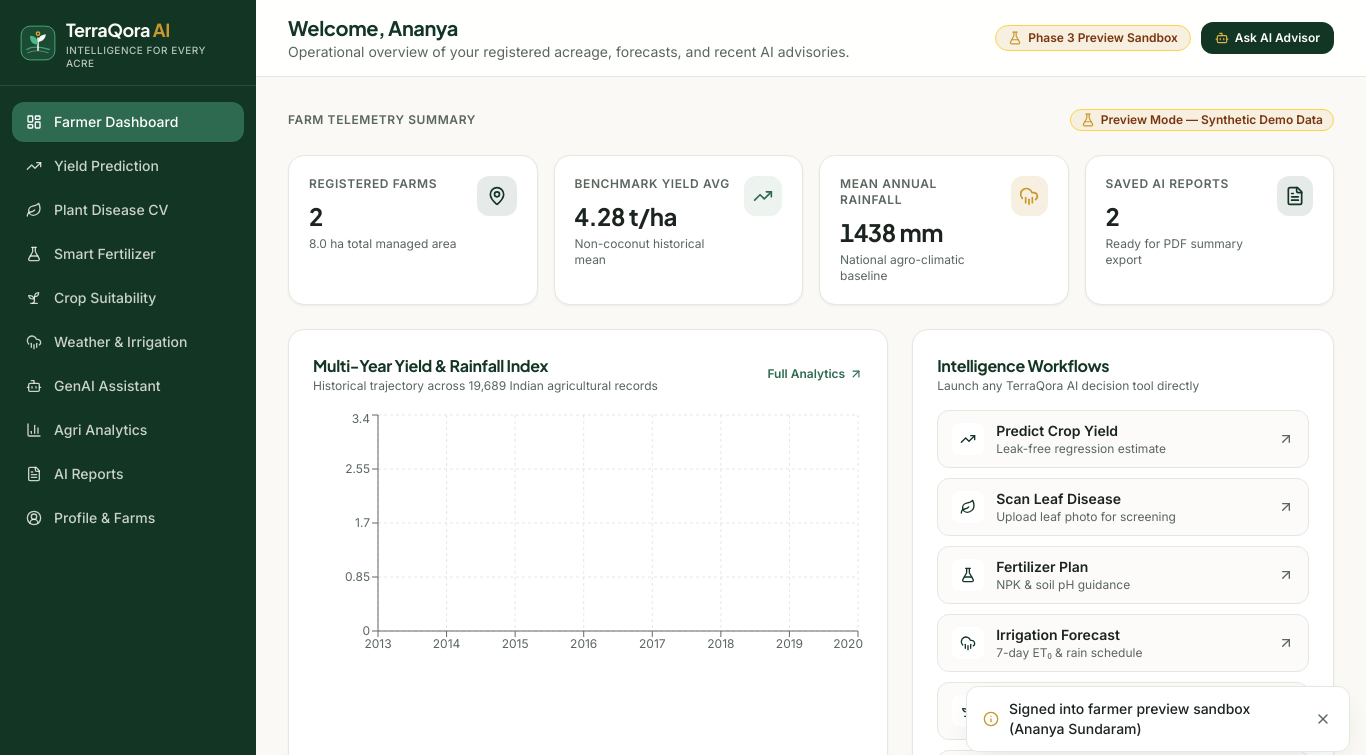
Test: TerraQora AI — Phase 3 Frontend Suite › updates Farmer Profile settings and performs Farm Plot Create, Update & Delete CRUD on /profile
The width and height of the screenshot is (1366, 755).
Earlier steps of the test are not shown.
Later steps or results of the test are not shown.
Expected: the text "Farm Telemetry Summary" is shown, [288,112,476,128]
Click the link "Profile & Farms" at (91, 518), box [26,509,155,526]
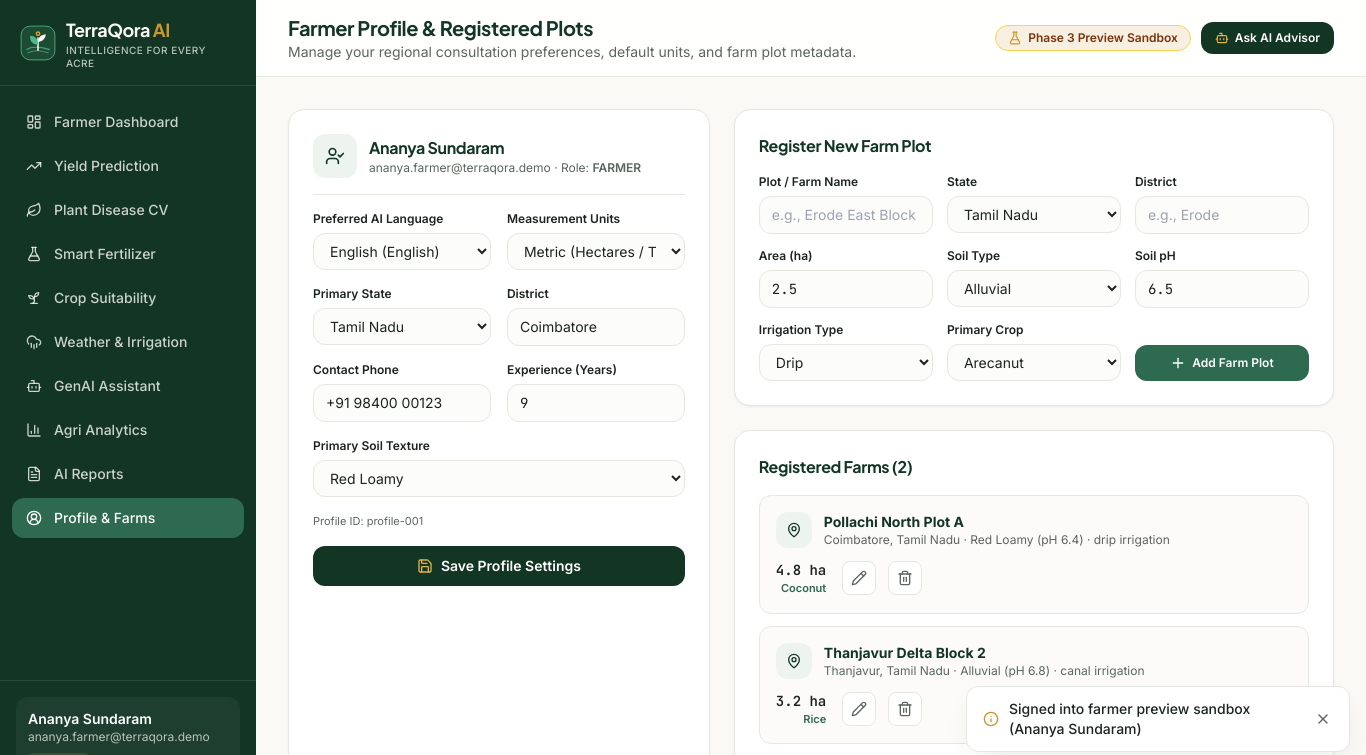
Replace the text in the field labelled "District" below "Primary State" with "Salem" at (596, 327), box [507,308,685,346]
Click the button "Save Profile Settings" at (499, 566), box [313,546,685,586]
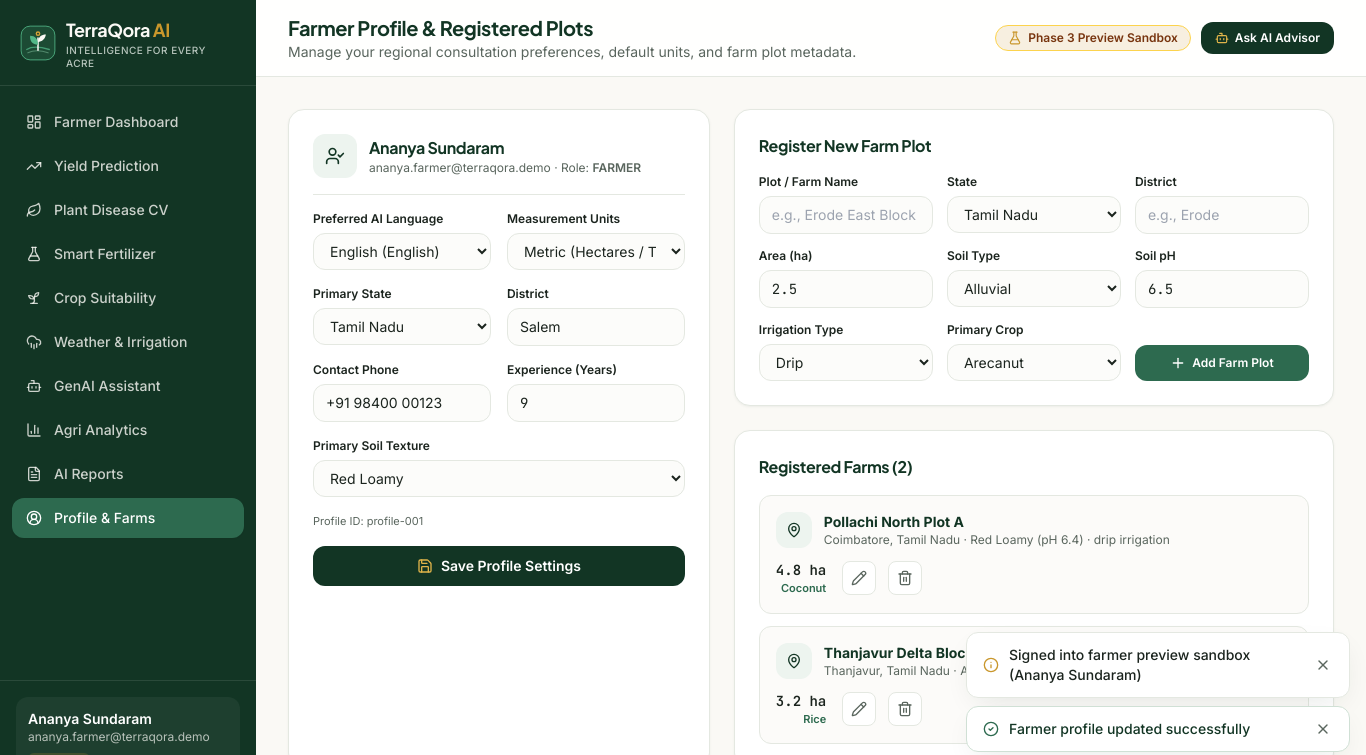
Expected: the text "Farmer profile updated successfully" is shown, [1009,720,1250,737]
Type "Salem West Terrace" into the field labelled "Plot / Farm Name" at (846, 215), box [759,196,933,234]
Click the button "Add Farm Plot" at (1222, 363), box [1135,345,1309,381]
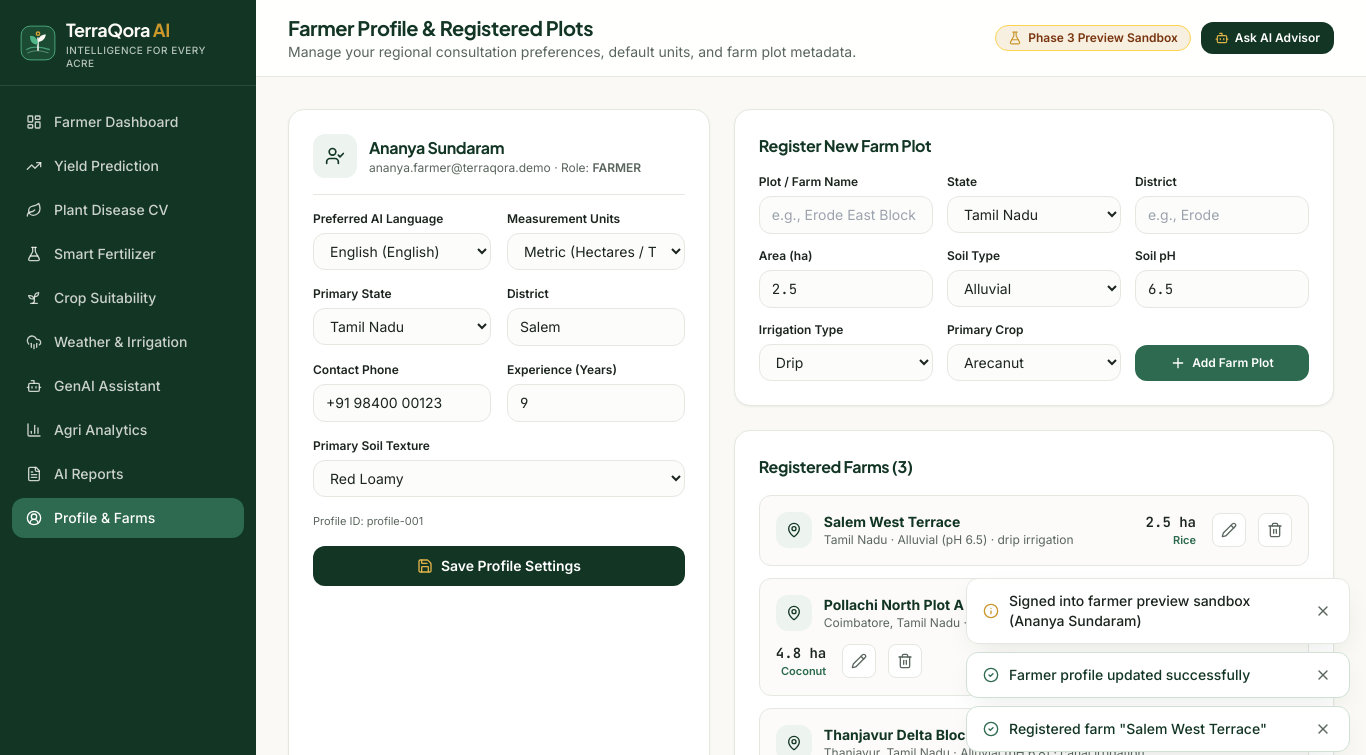
Click the button named "Edit Salem West Terrace" at (1229, 530), box [1212,513,1246,547]
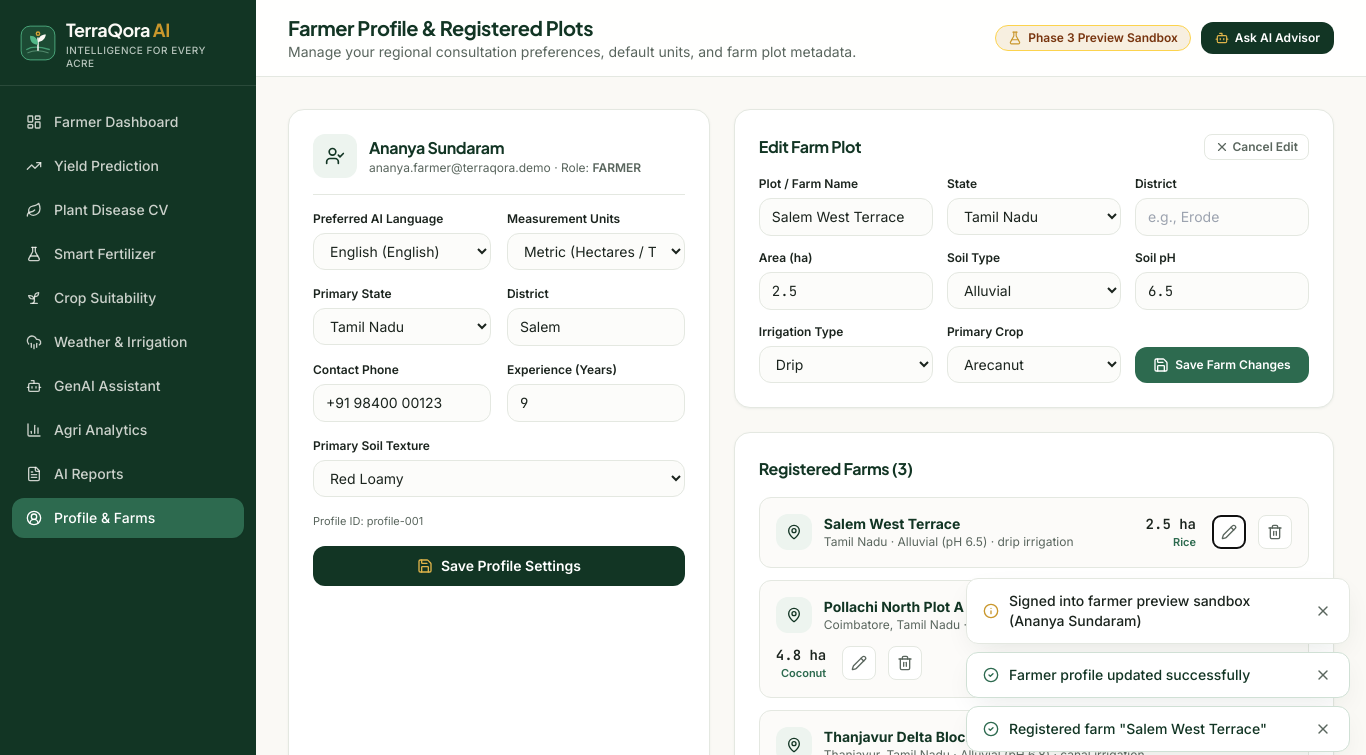
Replace the text in the field labelled "Plot / Farm Name" with "Salem North Terrace" at (846, 217), box [759,198,933,236]
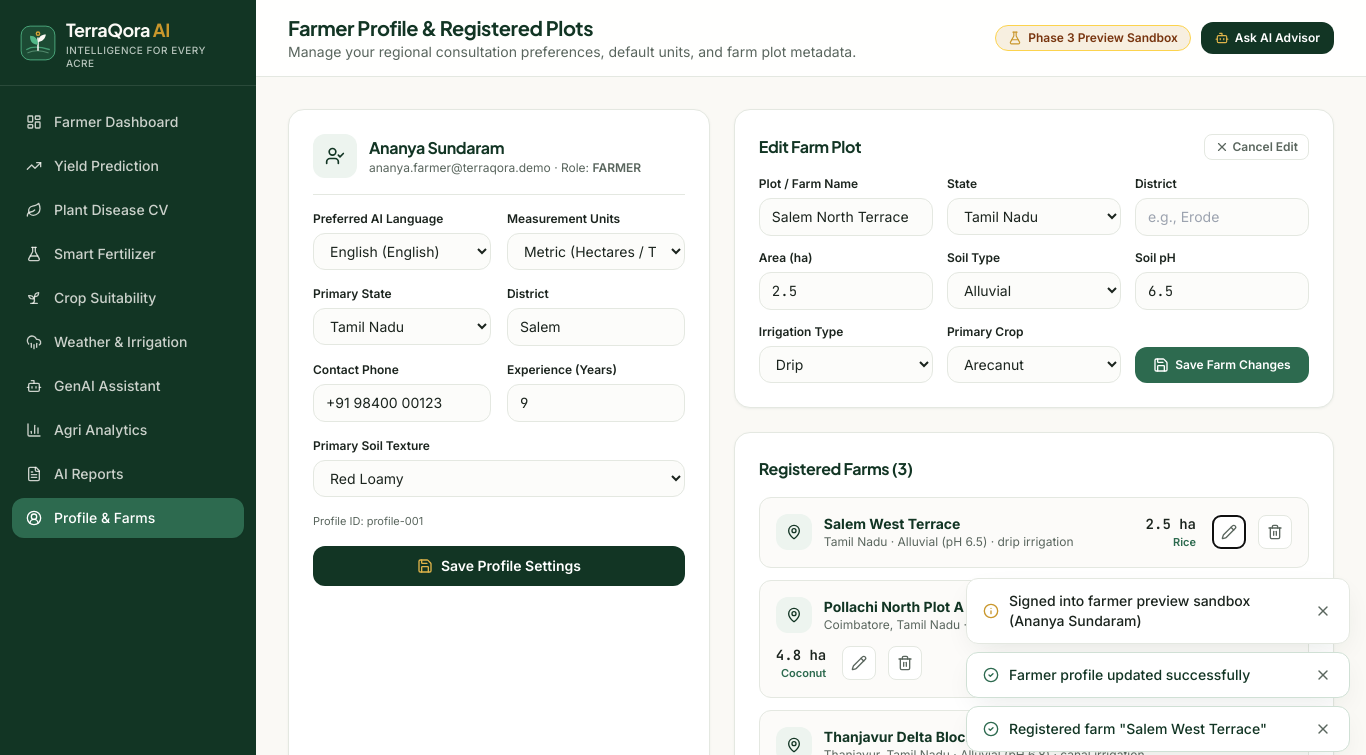
Click the button "Save Farm Changes" at (1222, 365), box [1135,347,1309,383]
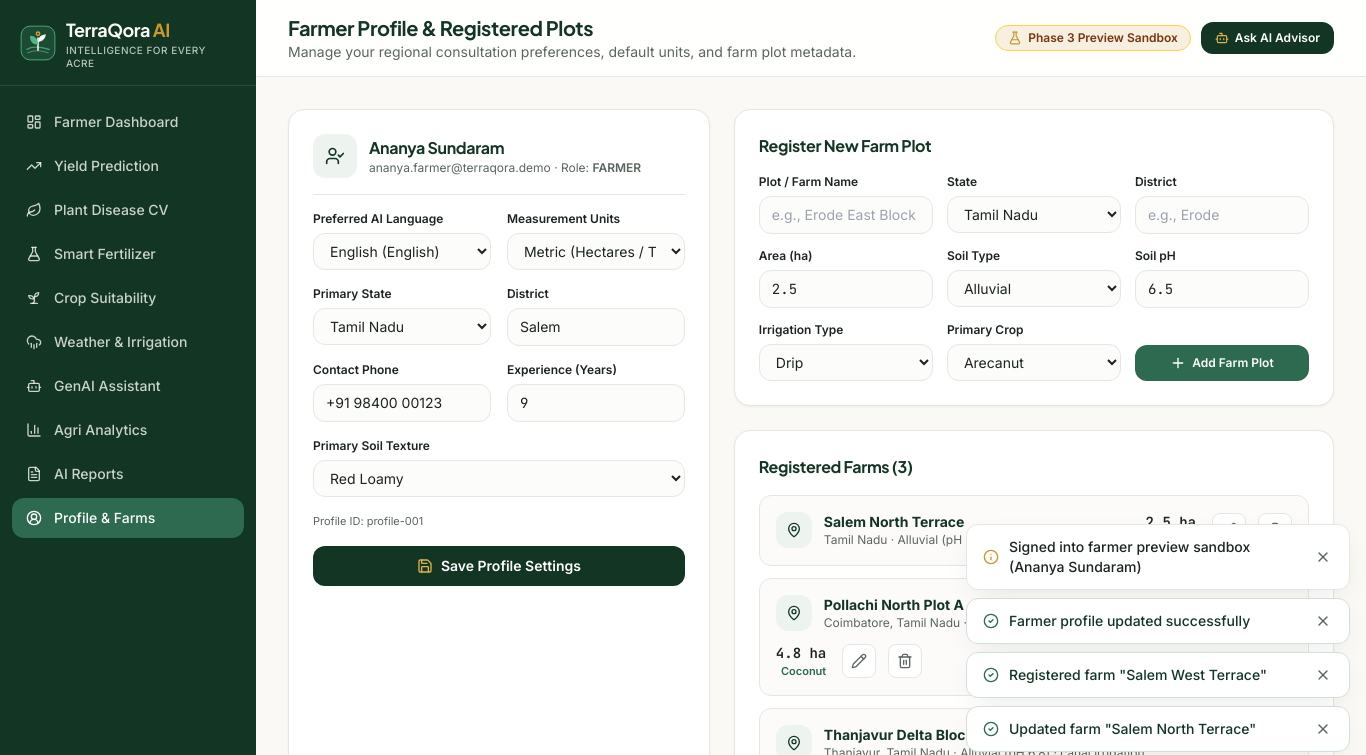
Expected: the button named "Delete Salem North Terrace" is shown, [1258,513,1292,547]
